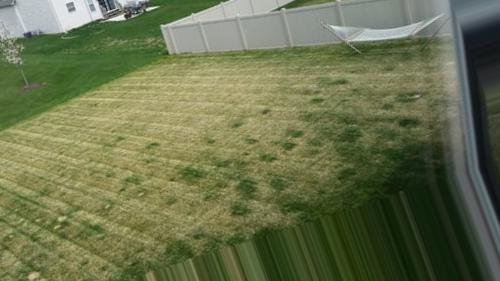patch: (71, 103, 151, 158)
